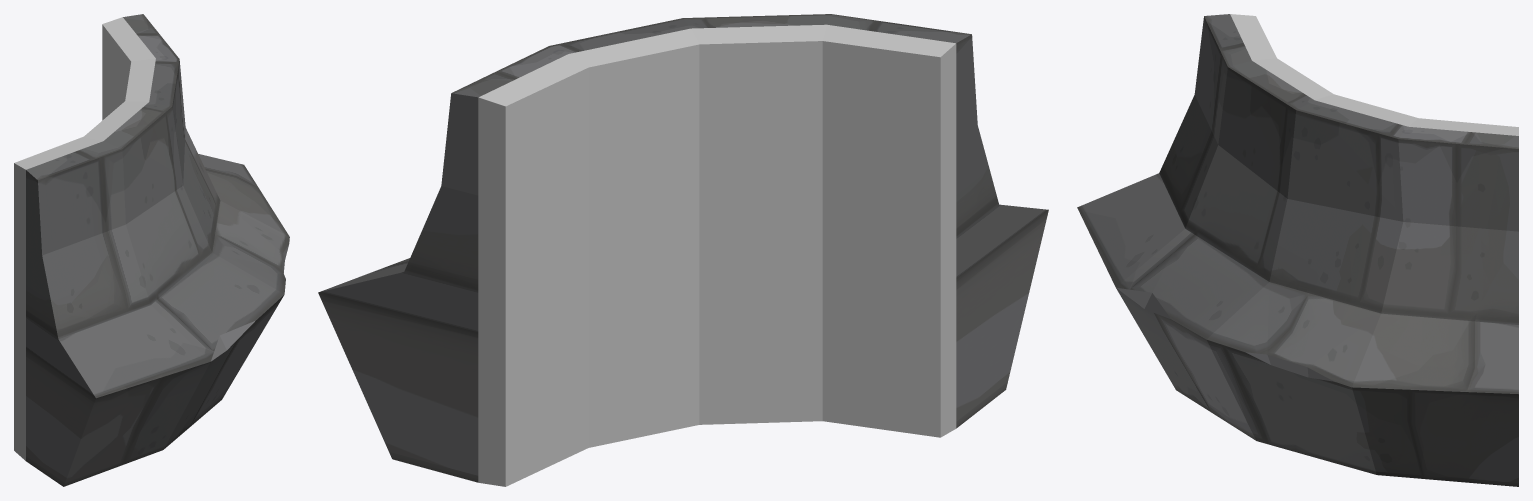
Rendered from SM_Bld_Wall_L_Curve_07.fbx.
The picture shows the model from 3 angles, left to right: view 1: azimuth 30°, elevation 25°; view 2: azimuth 150°, elevation 25°; view 3: azimuth 270°, elevation 25°; orthographic projection. The views are drawn at different scales.
Parts seen in each view (by area): view 1: SM_Bld_Wall_L_Curve_07; view 2: SM_Bld_Wall_L_Curve_07; view 3: SM_Bld_Wall_L_Curve_07.
Boxes of the visible parts, left/top/right/bottom form: SM_Bld_Wall_L_Curve_07: left=14, top=14, right=289, bottom=486; SM_Bld_Wall_L_Curve_07: left=318, top=14, right=1048, bottom=486; SM_Bld_Wall_L_Curve_07: left=1077, top=14, right=1518, bottom=486.
Size of the model in its own units: 382 by 304 by 382.
